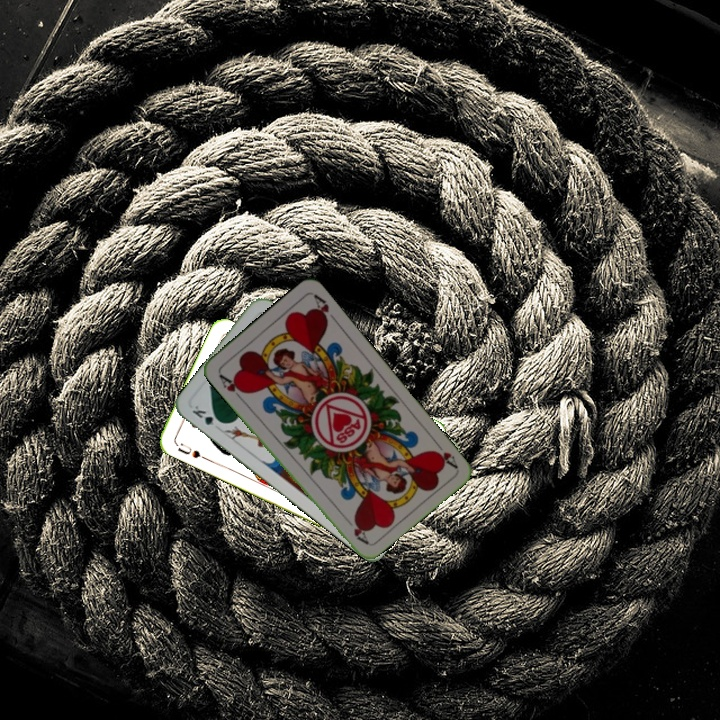GK: (188, 401, 226, 430)
HA: (428, 436, 460, 471), (215, 370, 248, 403)
SU: (171, 439, 210, 462)
